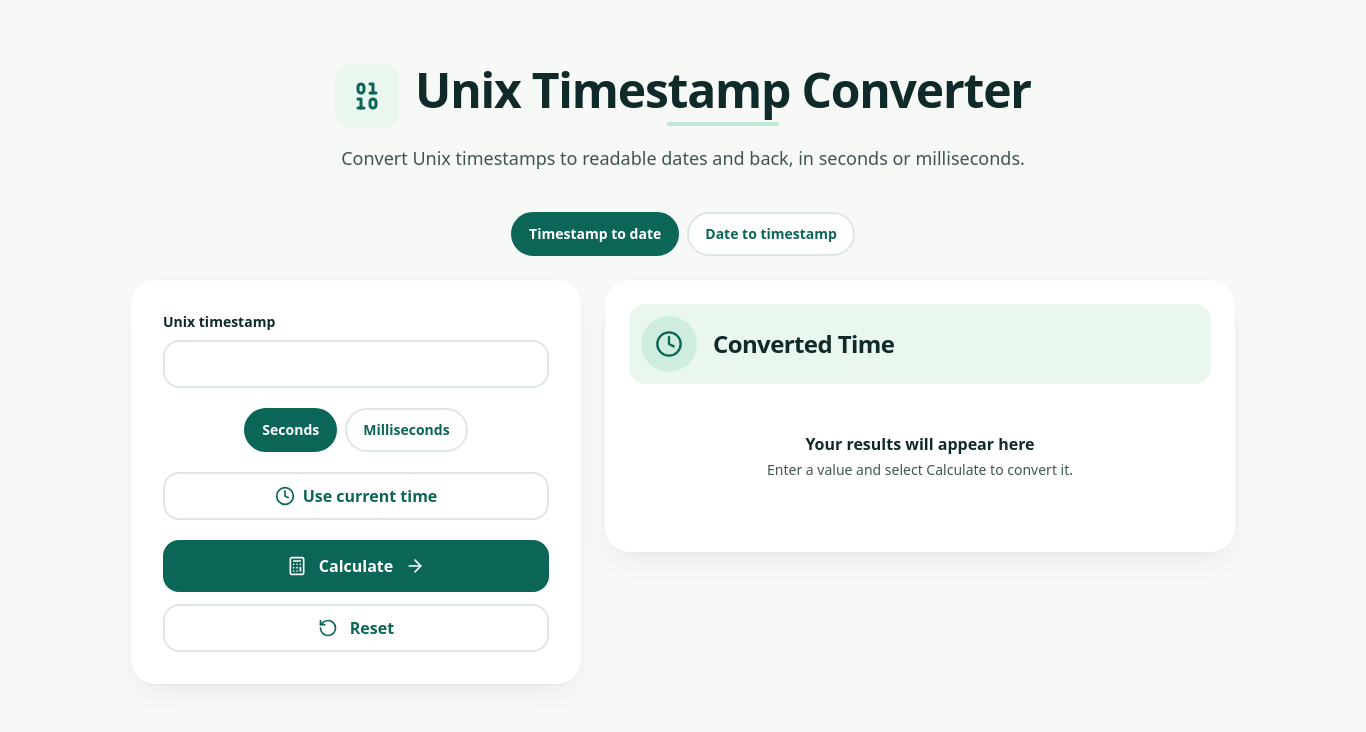
Scenario: Unix Timestamp Converter › shows errors and focuses the field
Click the button "Calculate" at (356, 566), box x1=163 y1=540 x2=549 y2=592
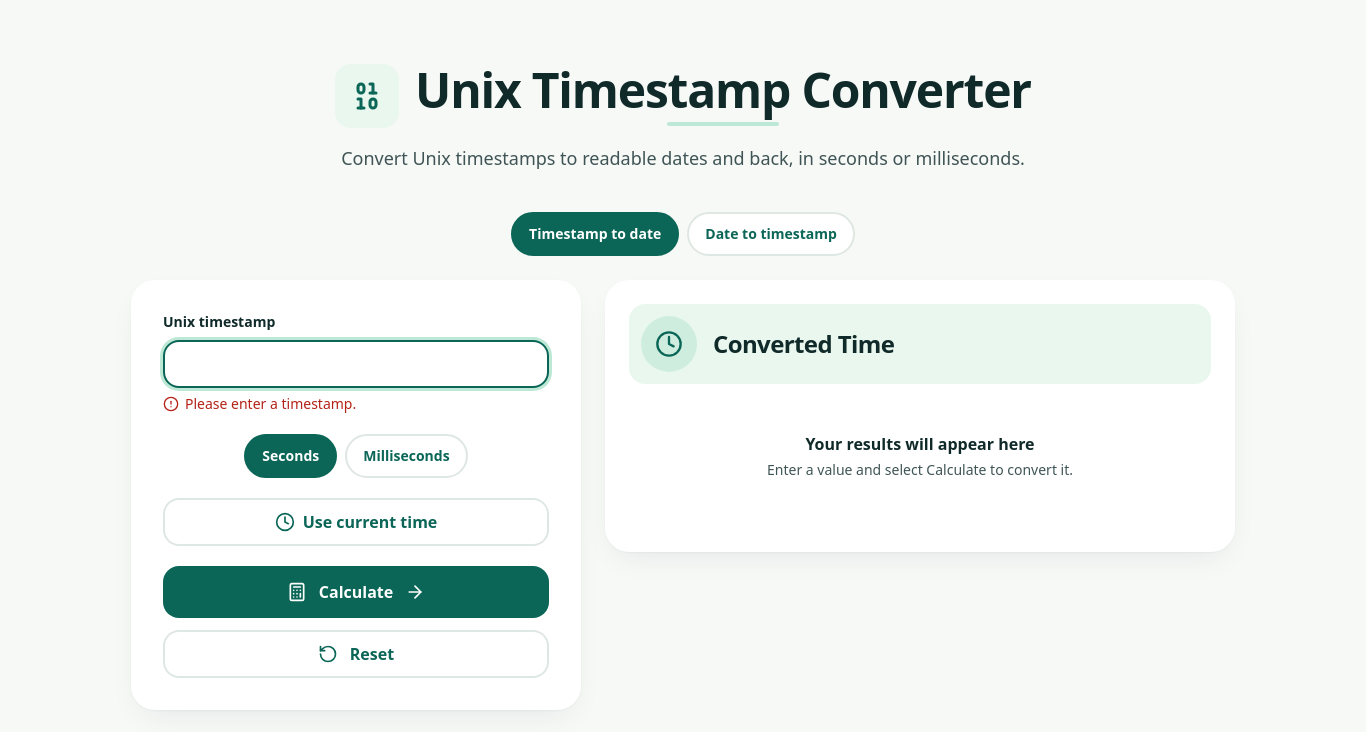
Now the text "Please enter a timestamp." is shown, box x1=163 y1=394 x2=356 y2=413
Type "12.5" into the field labelled "Unix timestamp" at (356, 364), box x1=163 y1=340 x2=549 y2=388
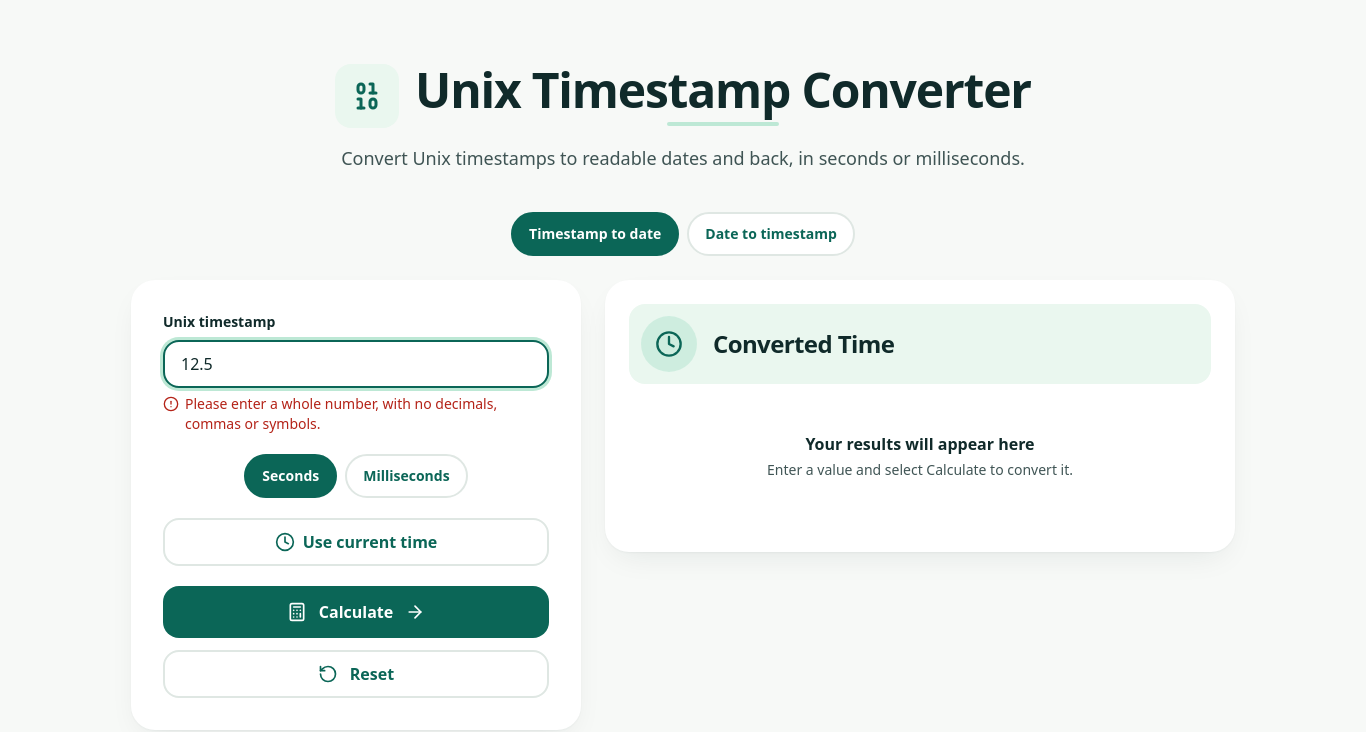
Expected: the text "Your results will appear here" is shown, x1=805 y1=433 x2=1035 y2=455
Now the text "whole number" is shown, box x1=185 y1=394 x2=497 y2=433
